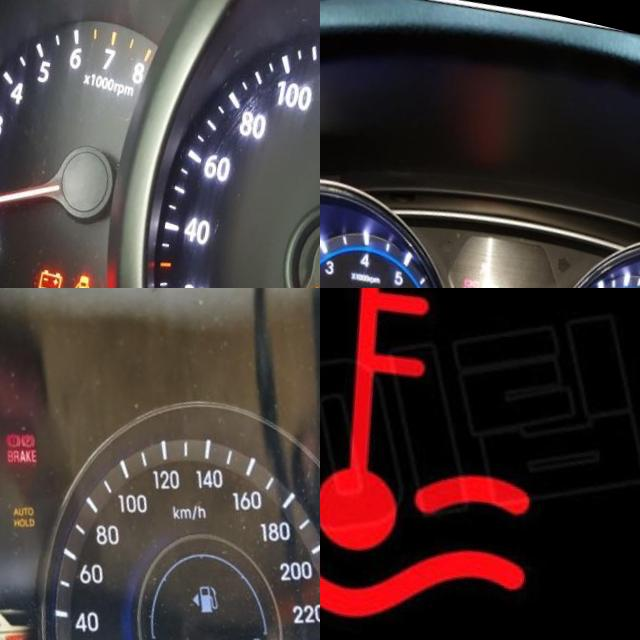Engine cooling system: (320, 288, 589, 640)
